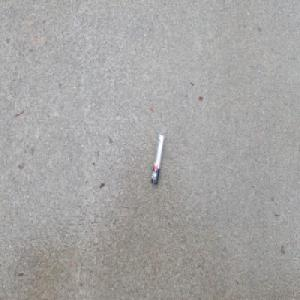Battery: (151, 132, 165, 186)
